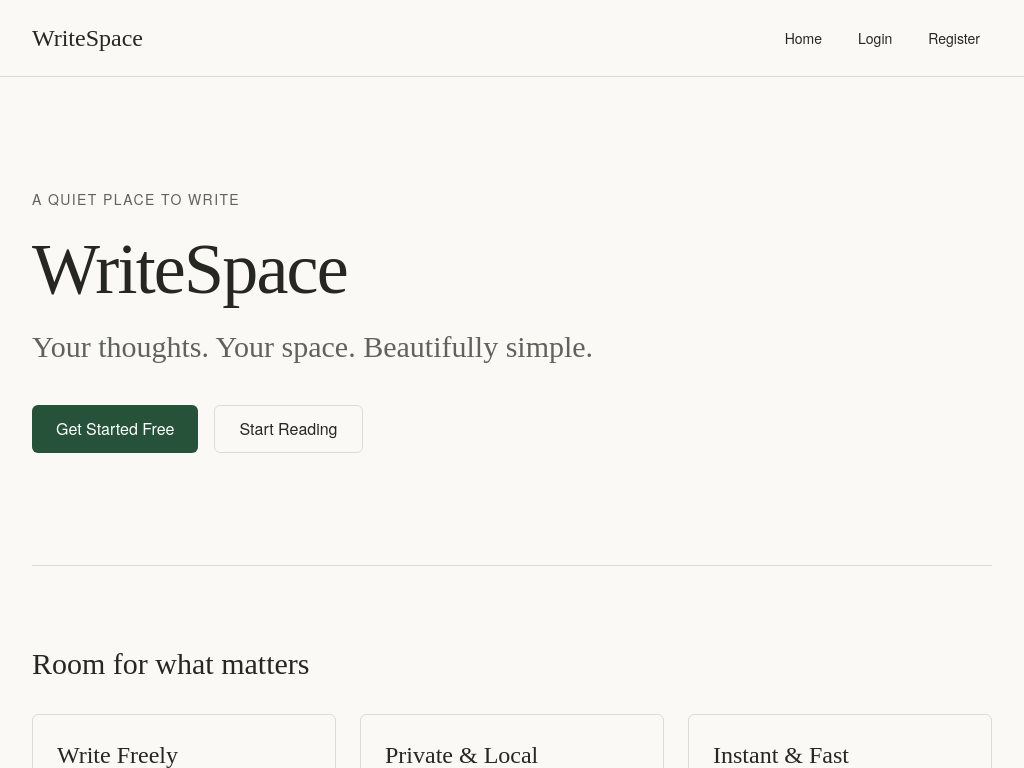
Test: identity forms and App › preserves guest discovery and activates registration only through a link
Check: the heading "WriteSpace" is shown, box x1=32 y1=229 x2=347 y2=309
Check: the navigation bar named "Public navigation" is shown, box x1=785 y1=28 x2=980 y2=48
Click the link "Get Started Free" at (115, 429), box x1=32 y1=405 x2=198 y2=453
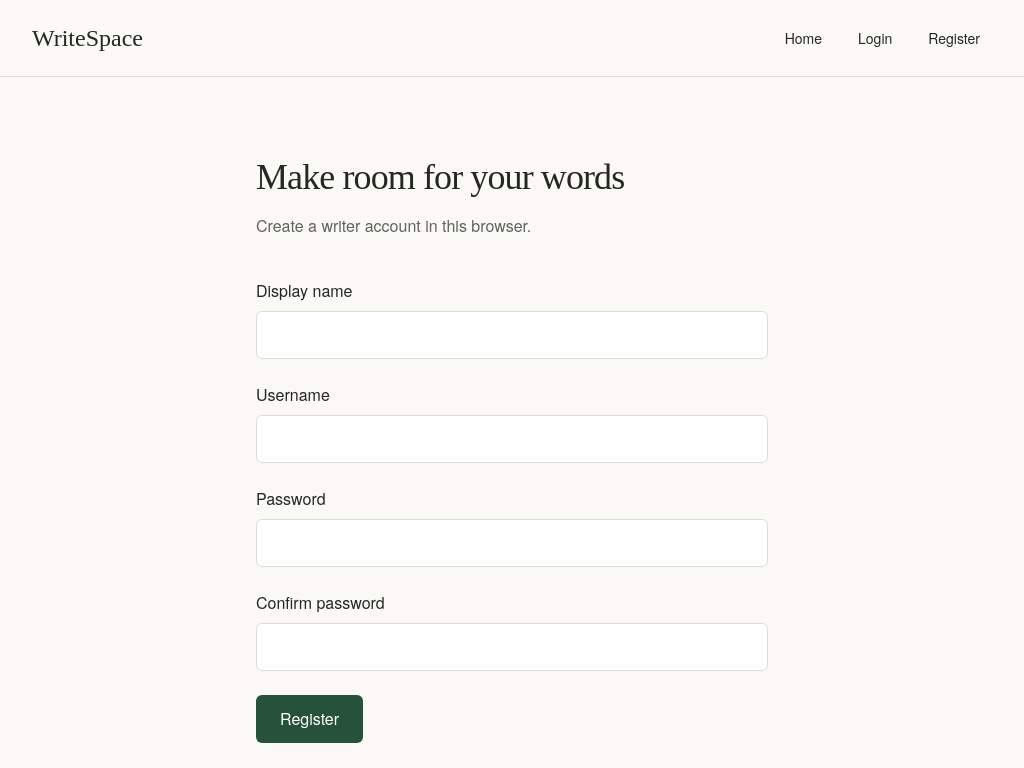
Check: the button "Register" is shown, box x1=256 y1=695 x2=363 y2=743
